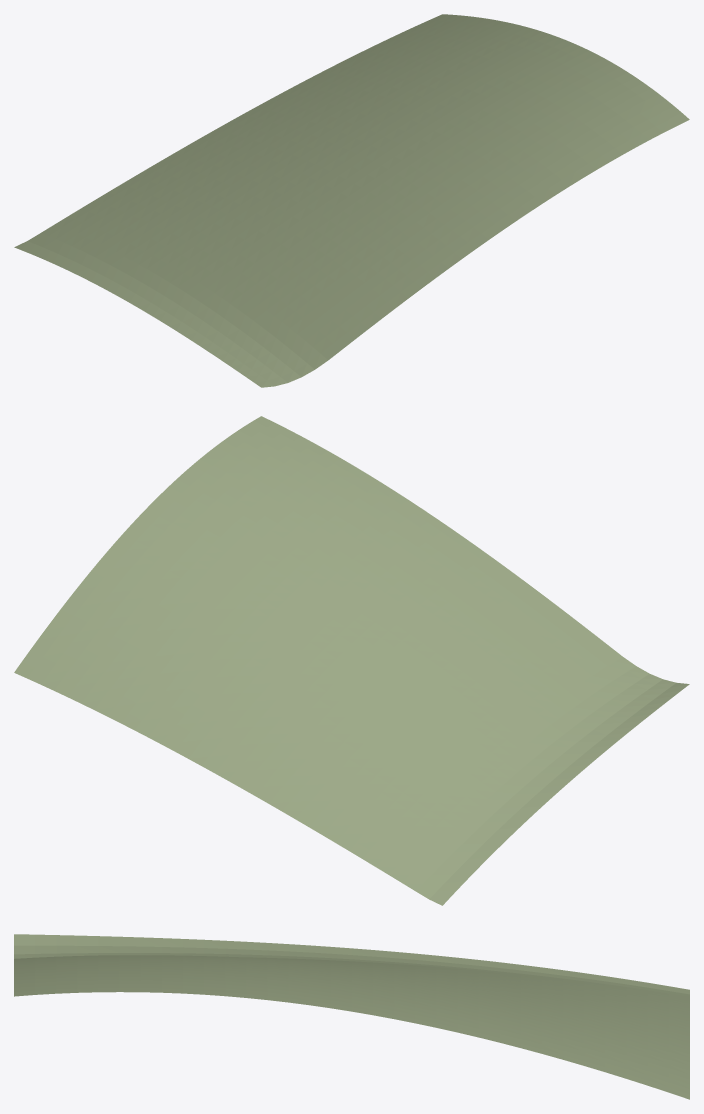
Rendered from alpine-13-9.glb.
The picture shows the model from 3 angles, top to bottom: view 1: azimuth 30°, elevation 25°; view 2: azimuth 150°, elevation 25°; view 3: azimuth 270°, elevation 25°; orthographic projection. The views are drawn at different scales.
Parts seen in each view (by area): view 1: alpine-13-9; view 2: alpine-13-9; view 3: alpine-13-9.
Part boxes in pixels (x1,y1,x2,y2): alpine-13-9: (14, 14, 689, 387); alpine-13-9: (14, 416, 689, 905); alpine-13-9: (14, 934, 689, 1099).
Bounding box in the file's own units: 256 × 118 × 256.
